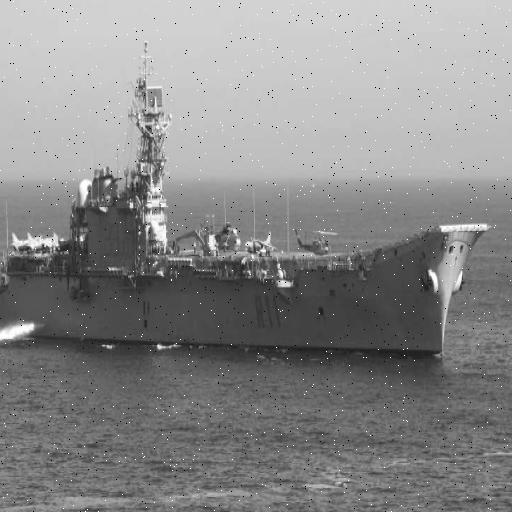Portanaves: (1, 20, 494, 367)
